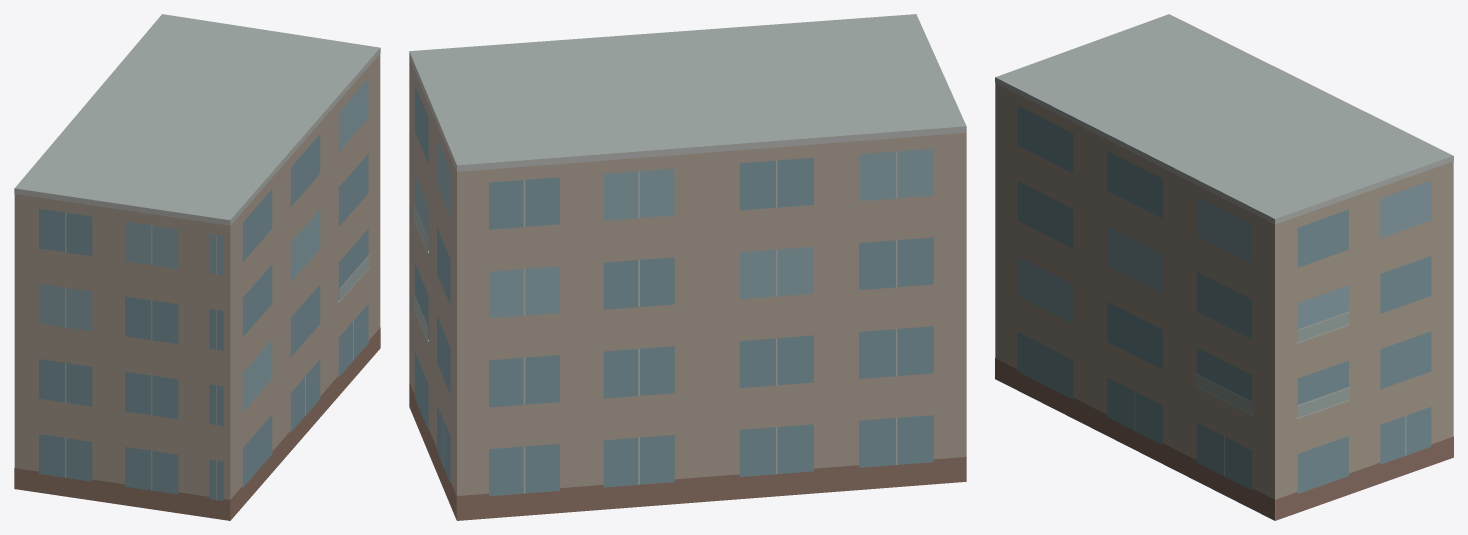
The model's file is survey-upis-32746032.glb.
3 views of the same model, side by side, from view 1: azimuth 30°, elevation 25°; view 2: azimuth 150°, elevation 25°; view 3: azimuth 270°, elevation 25° (orthographic). The views are drawn at different scales.
Visible parts, largest first — view 1: survey-upis-32746032.tmp; view 2: survey-upis-32746032.tmp; view 3: survey-upis-32746032.tmp.
Boxes of the visible parts, x1,y1,x2,y2 form: survey-upis-32746032.tmp: (14, 14, 380, 520); survey-upis-32746032.tmp: (409, 14, 966, 520); survey-upis-32746032.tmp: (995, 14, 1453, 520).
Size of the model in its own units: 19.43 by 13.32 by 18.36.
